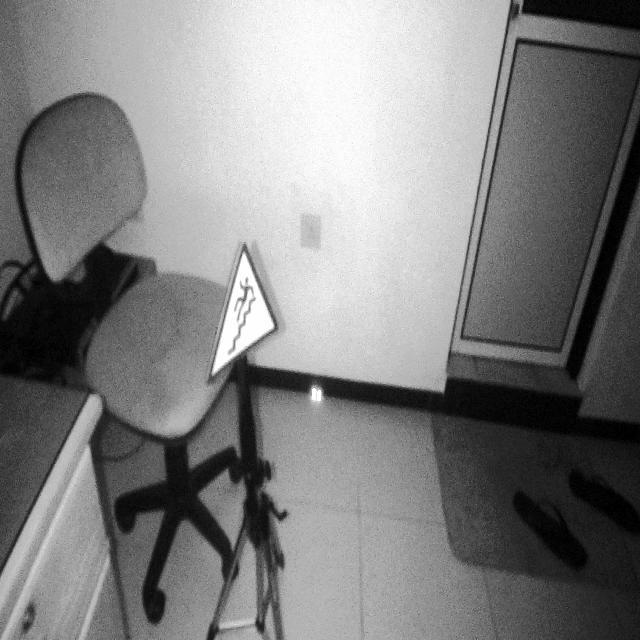Sign: (206, 239, 280, 387)
